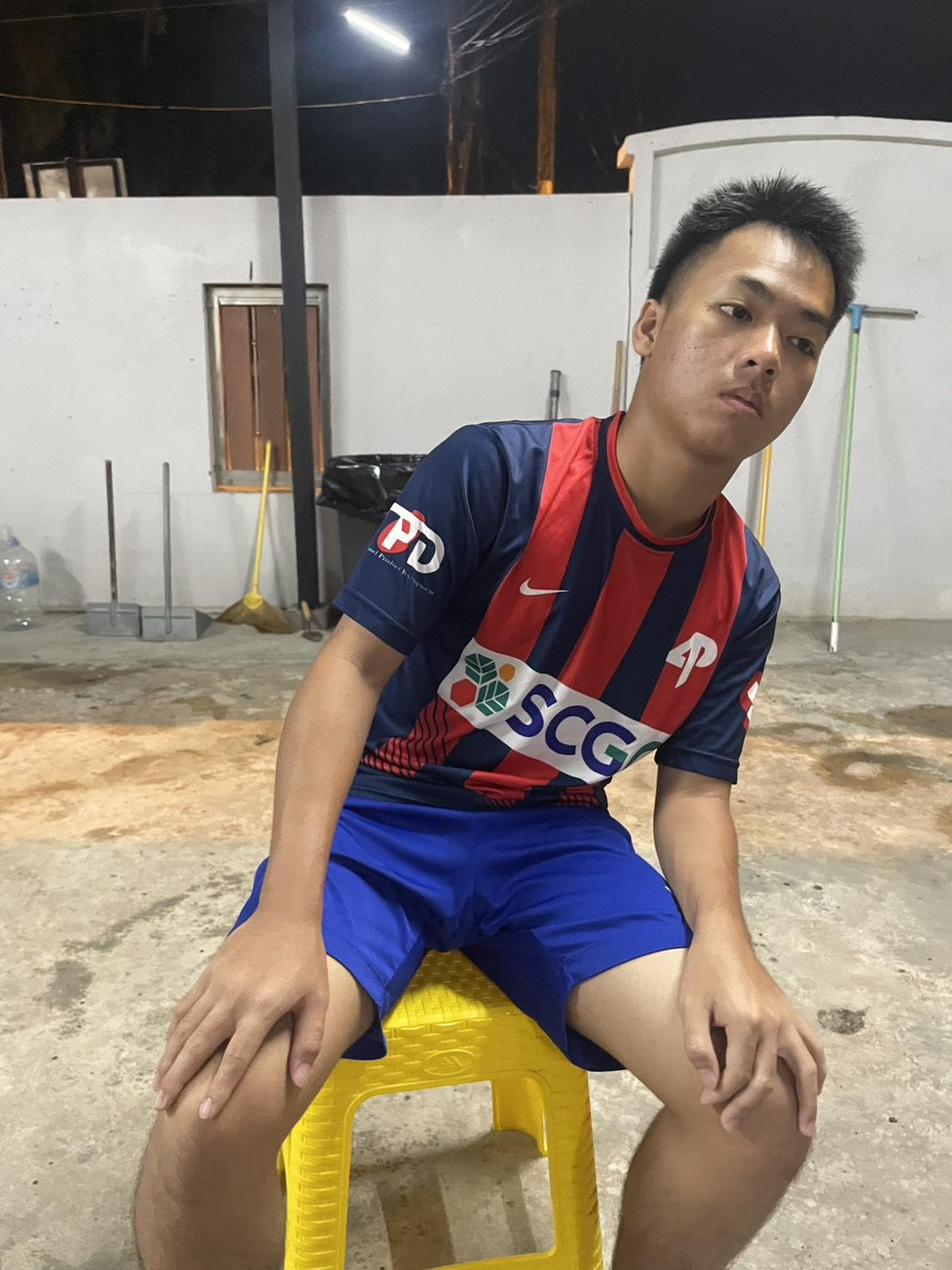BadPosture: (332, 174, 860, 878)
